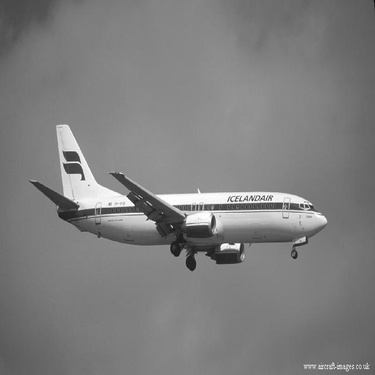airplane: (20, 113, 337, 280)
